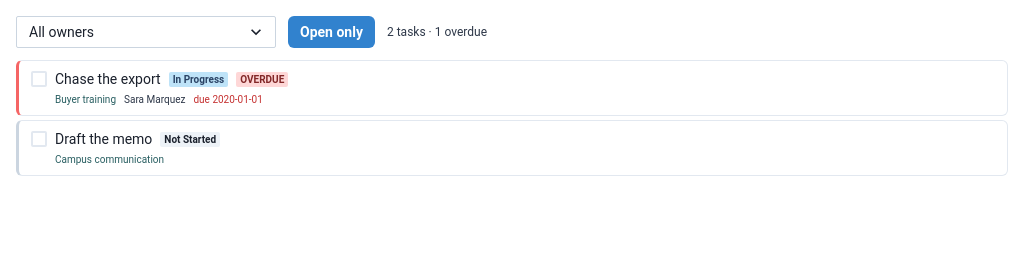
Test: PlanTasksBoard › widens to completed tasks on demand
The width and height of the screenshot is (1024, 253).
Check: the text "Chase the export" is shown, box top-left (55, 69), bottom-right (161, 90)
Click the button "Open only" at (332, 32), box top-left (288, 16), bottom-right (375, 48)
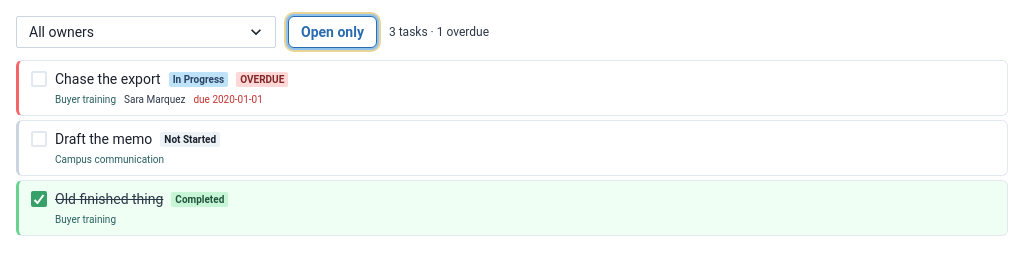
Check: the text "Old finished thing" is shown, box top-left (55, 189), bottom-right (163, 210)
